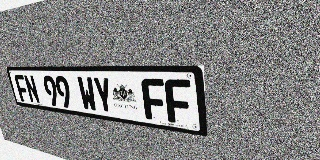9: (54, 76, 74, 109), (42, 75, 61, 107)
F: (164, 79, 193, 125), (141, 78, 167, 122), (14, 75, 30, 102)
N: (23, 75, 41, 104)
W: (76, 76, 98, 112)
Y: (92, 77, 115, 114)
